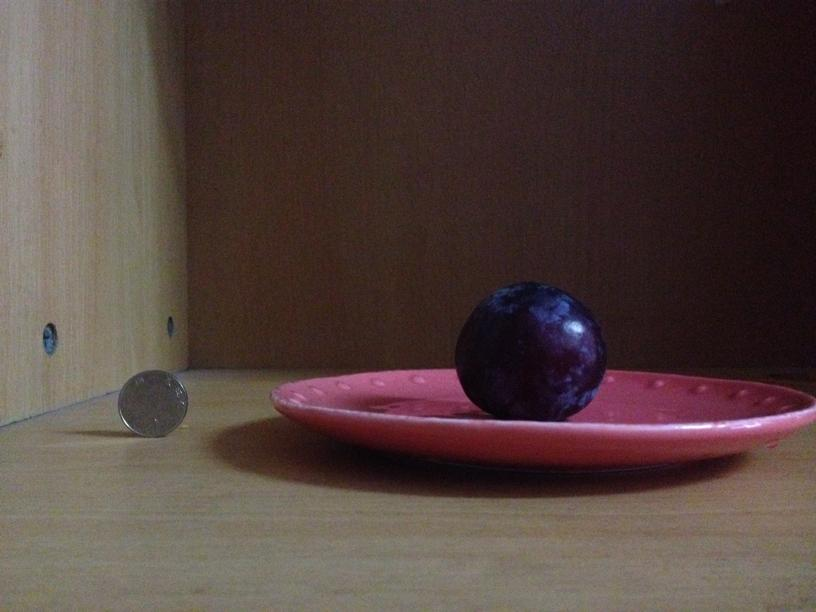coin: (118, 370, 187, 439)
plum: (453, 285, 606, 416)
